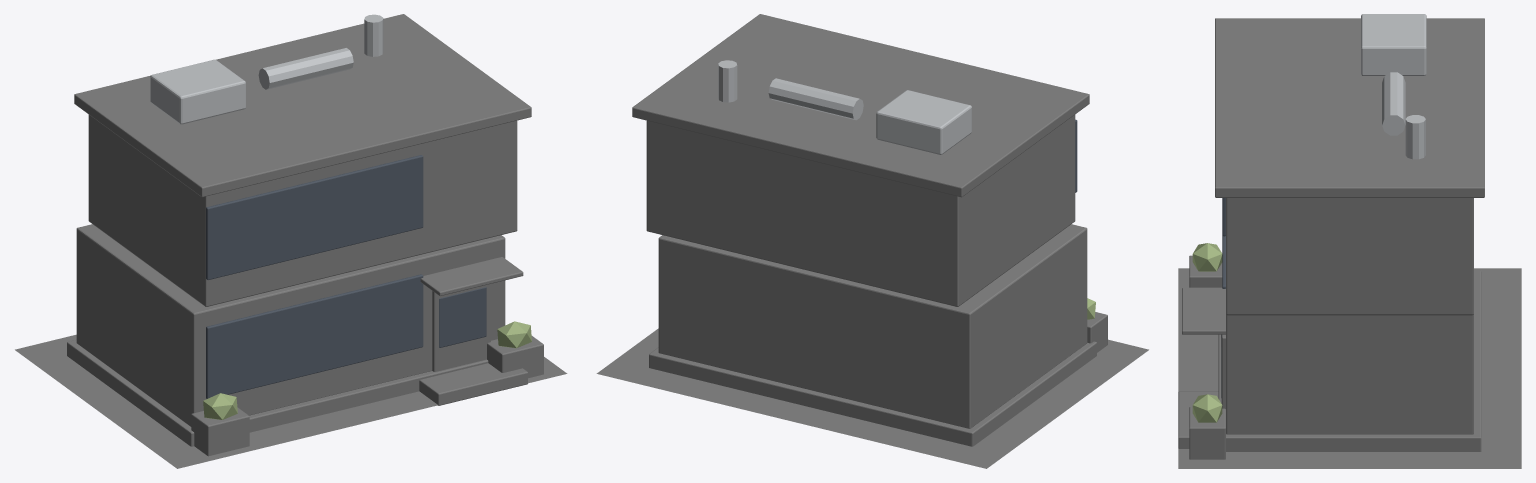
File: research-institute.glb
3 views of the same model, side by side, from view 1: azimuth 30°, elevation 25°; view 2: azimuth 150°, elevation 25°; view 3: azimuth 270°, elevation 25° (orthographic). The views are drawn at different scales.
Parts seen in each view (by area): view 1: roofSlab, floor2, floor1, glassBand.001, glassBand, ContactShadow, base, acUnit, steps, doorGlass, canopy, duct (+6 smaller); view 2: floor1, floor2, roofSlab, ContactShadow, base, acUnit, duct, ventStack, planter; view 3: roofSlab, floor1, floor2, ContactShadow, base, acUnit, canopy, planter.001, duct, ventStack, steps, shrub (+3 smaller).
Boxes of the visible parts, x1,y1,x2,y2 form: roofSlab: (74, 14, 531, 197); floor2: (88, 114, 517, 306); floor1: (76, 224, 505, 426); glassBand.001: (206, 155, 423, 279); glassBand: (206, 274, 423, 398); ContactShadow: (15, 334, 567, 468); base: (67, 340, 488, 446); acUnit: (150, 59, 245, 124); steps: (419, 363, 527, 405); doorGlass: (439, 287, 486, 347); canopy: (420, 257, 523, 296); duct: (258, 48, 353, 89); floor1: (658, 224, 1087, 428); floor2: (646, 114, 1075, 306); roofSlab: (632, 14, 1089, 197); ContactShadow: (596, 328, 1148, 468); base: (649, 341, 1096, 446); acUnit: (876, 90, 971, 154); duct: (768, 78, 863, 120); ventStack: (718, 60, 737, 102); planter: (1087, 312, 1107, 352); roofSlab: (1215, 18, 1484, 197); floor1: (1226, 315, 1473, 434); floor2: (1226, 198, 1473, 315); ContactShadow: (1178, 268, 1521, 468); base: (1218, 271, 1481, 451); acUnit: (1361, 14, 1426, 75); canopy: (1182, 287, 1225, 334); planter.001: (1189, 406, 1225, 459); duct: (1382, 72, 1405, 135); ventStack: (1405, 115, 1425, 159); steps: (1178, 391, 1218, 448); shrub: (1192, 243, 1222, 271).
Bounding box in the file's own units: 6.5 × 4.68 × 4.7.
13 materials, 7 textured.
